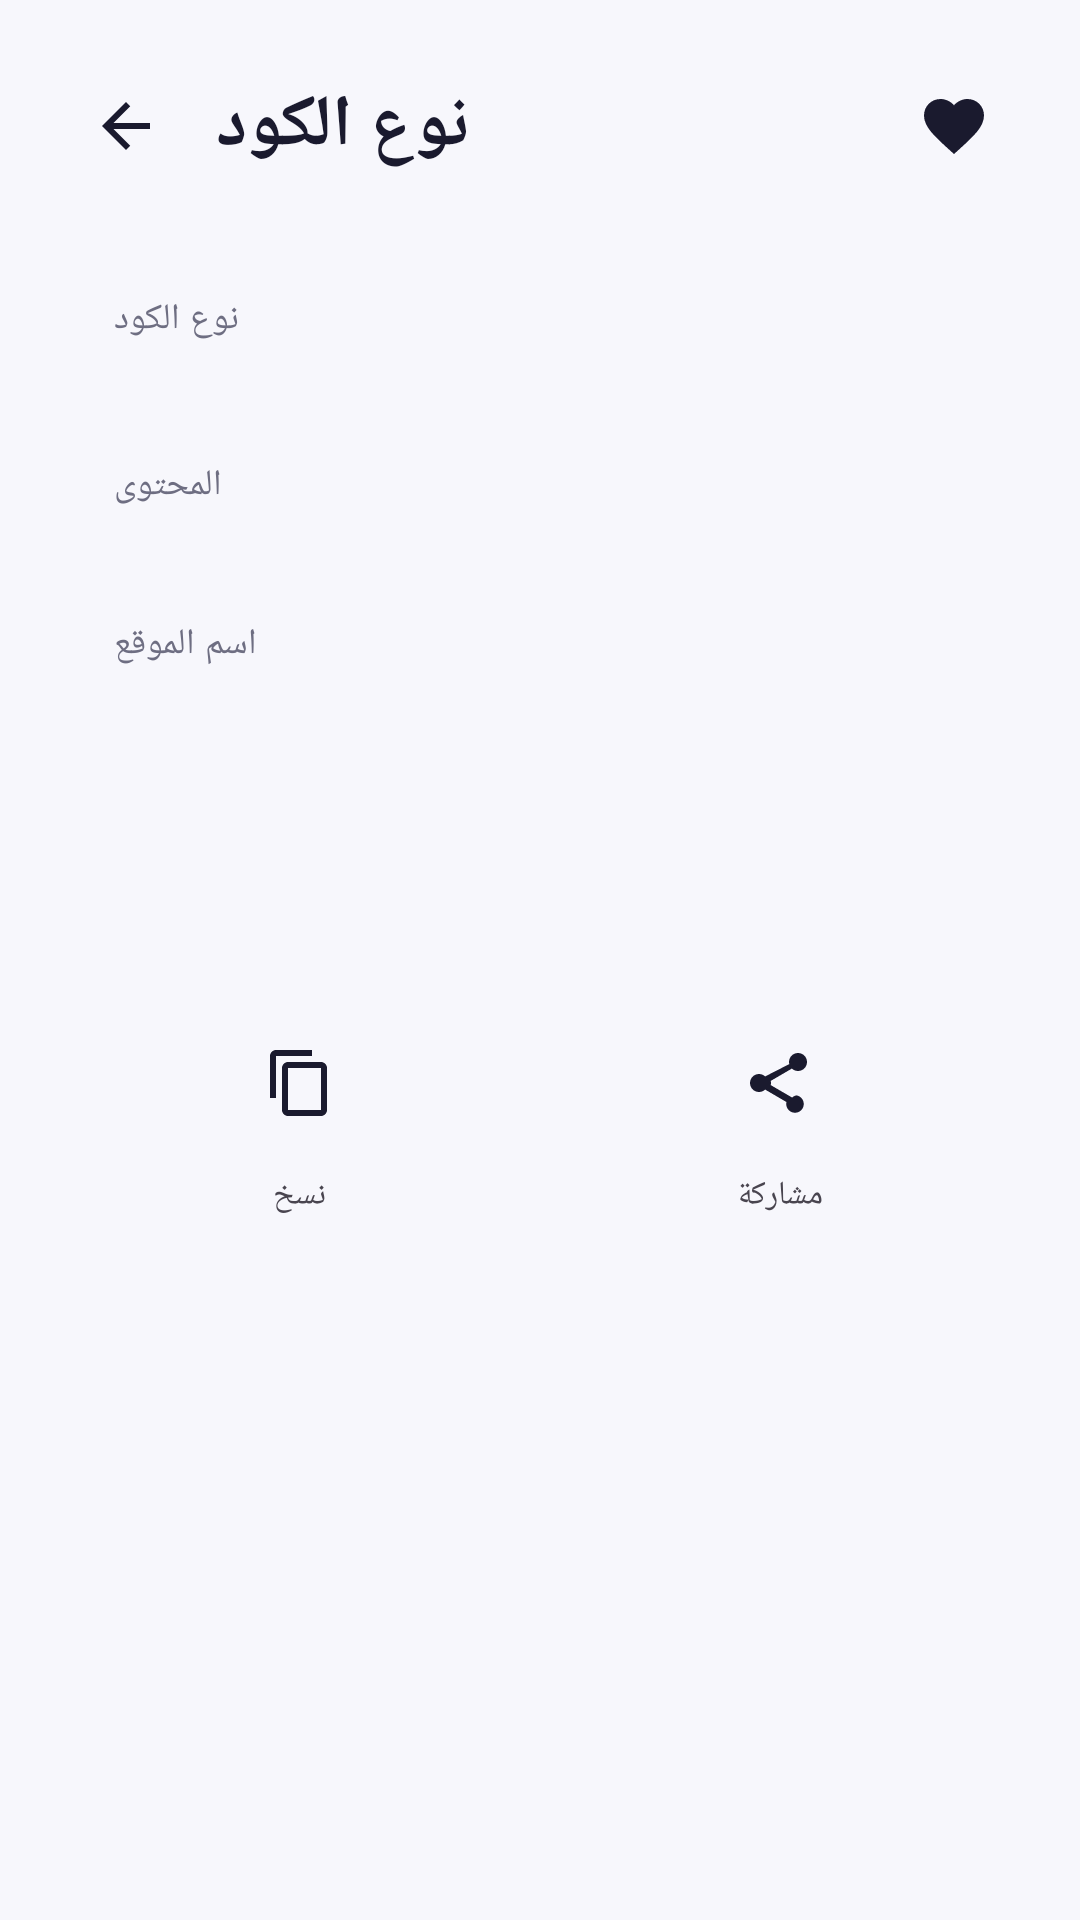

Where icons sit on this 1080px×1920px app screen, as (x1, y1, x2, y2):
back: (102, 102, 150, 150)
share: (750, 1053, 807, 1113)
